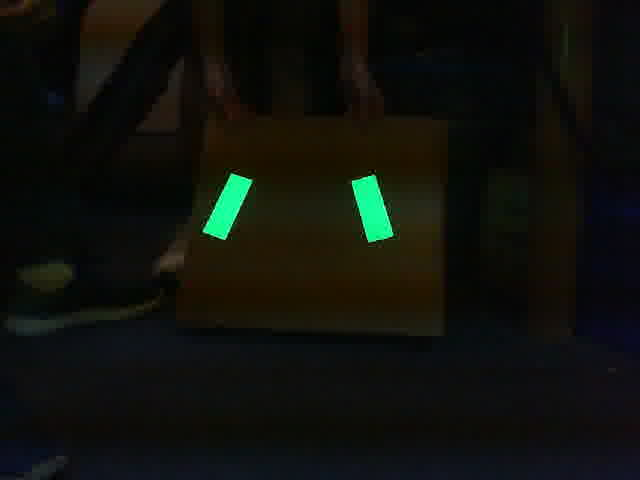target: (199, 168, 399, 244)
